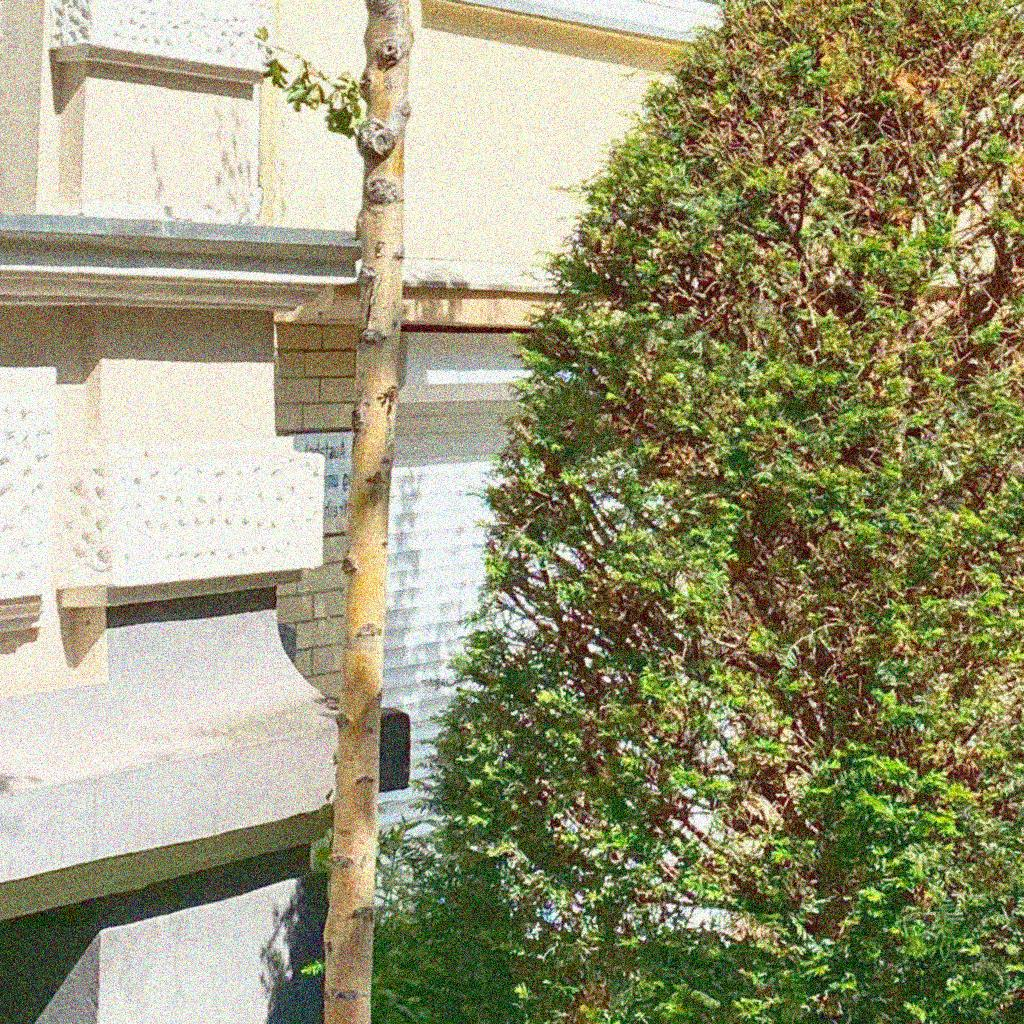tree: (397, 1, 1024, 1023), (248, 1, 416, 1024)
